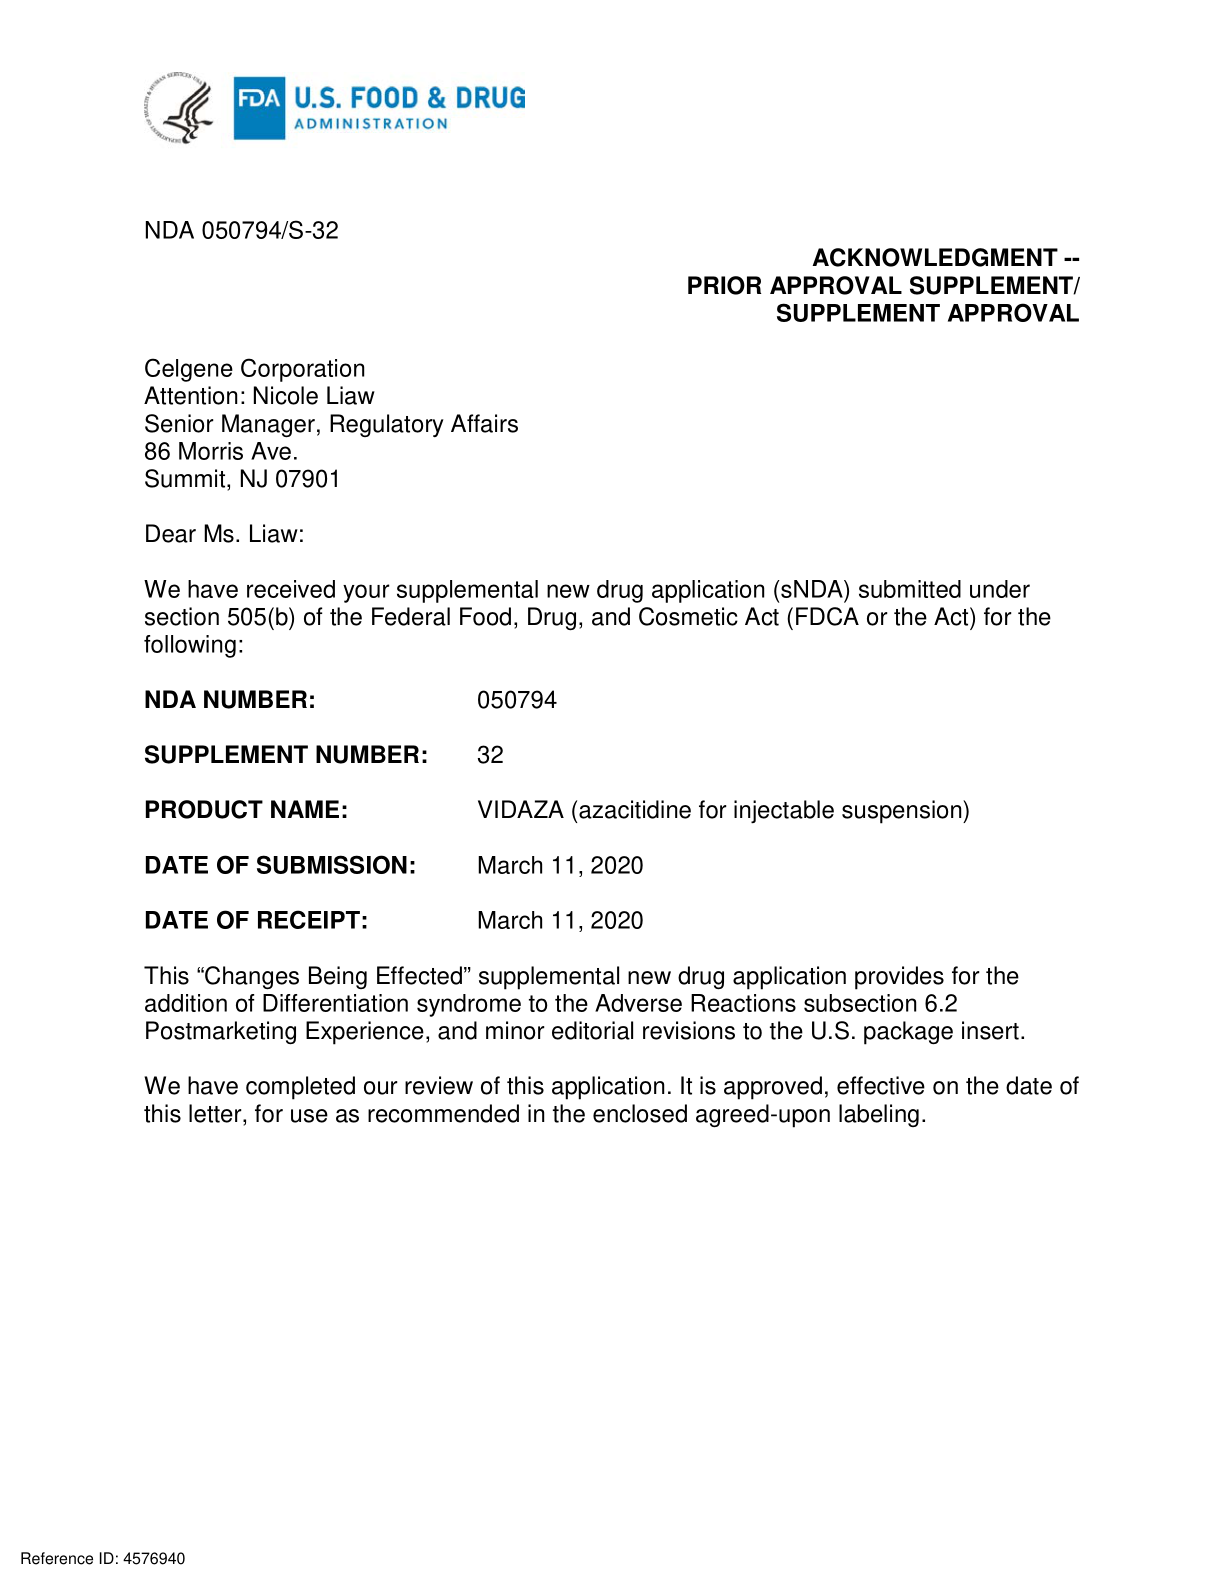nolines: (132, 681, 977, 941)
